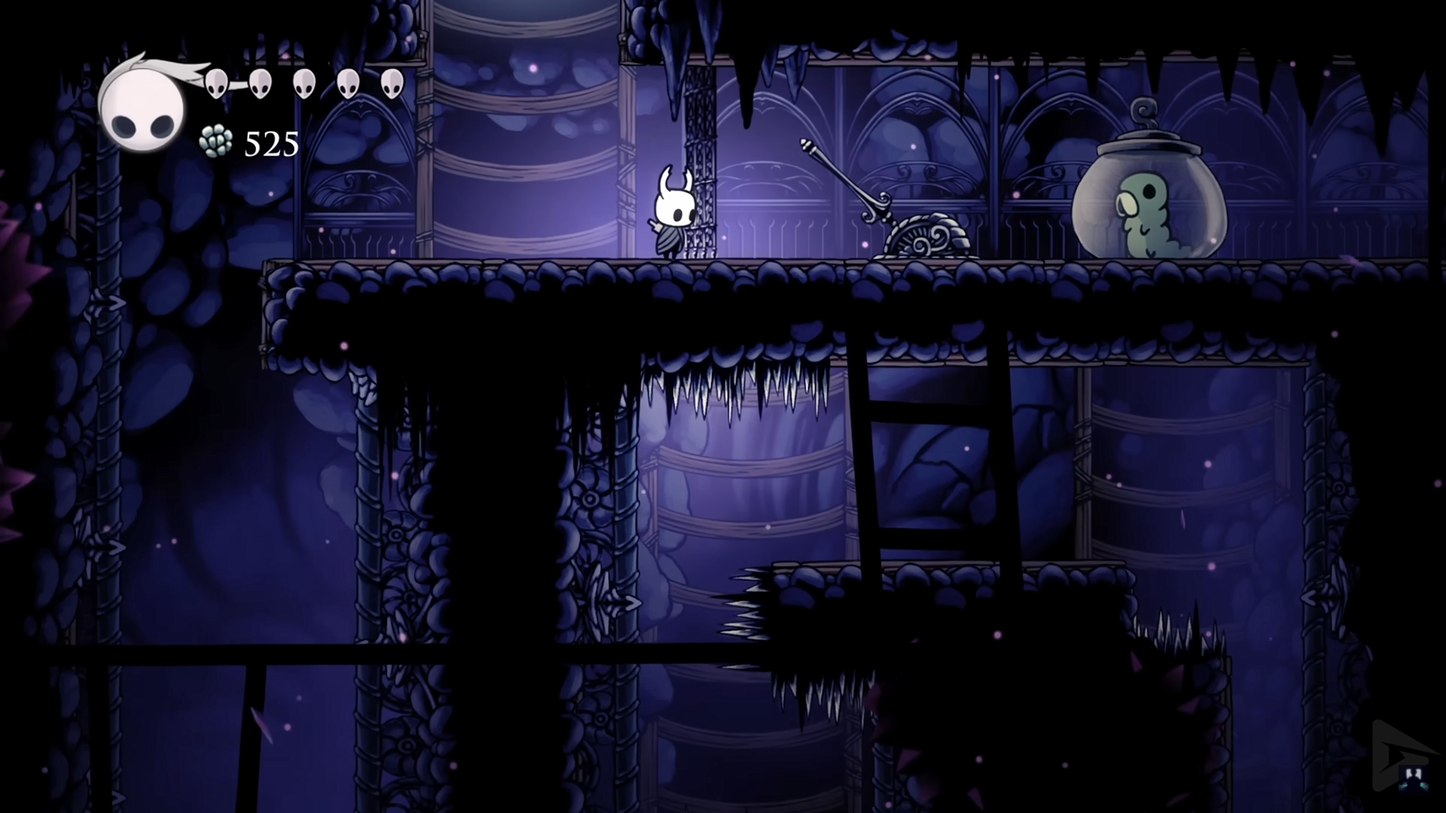HK: (646, 160, 706, 261)
